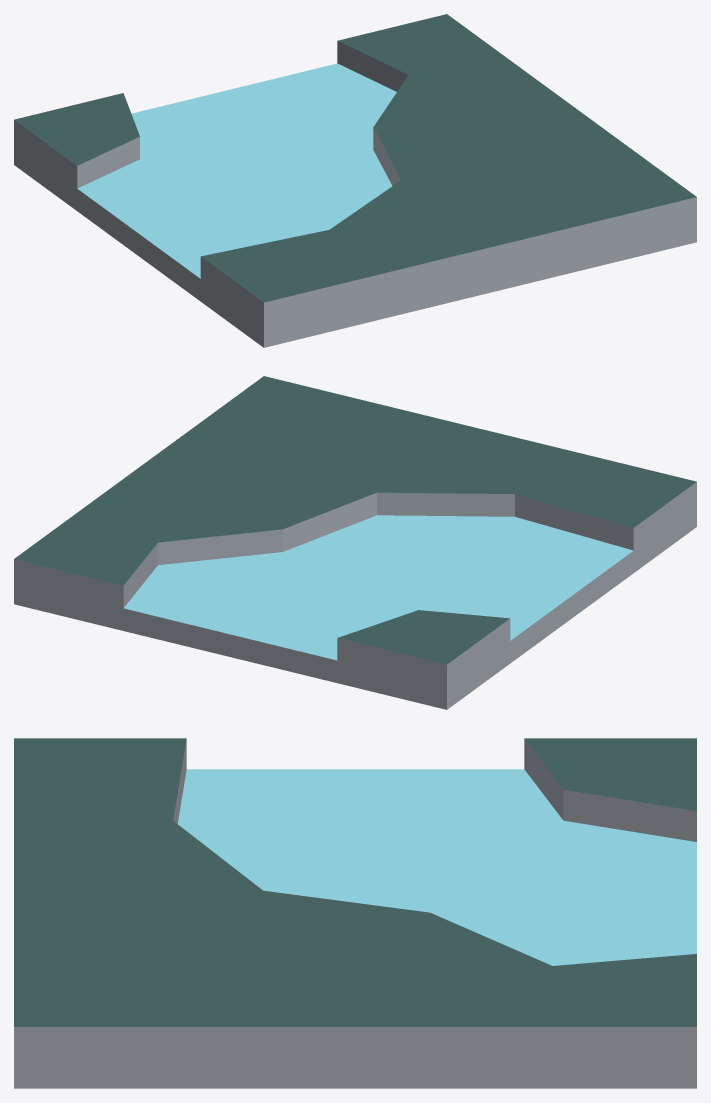
File: Plate_River_Corner_01.fbx
3 renders of one model, top to bottom at view 1: azimuth 30°, elevation 25°; view 2: azimuth 150°, elevation 25°; view 3: azimuth 270°, elevation 25°, orthographic. The views are drawn at different scales.
Parts seen in each view (by area): view 1: Mesh1_Plate_River_Corner Model; view 2: Mesh1_Plate_River_Corner Model; view 3: Mesh1_Plate_River_Corner Model.
Part boxes in pixels (x1,y1,x2,y2): Mesh1_Plate_River_Corner Model: (14,14,696,347); Mesh1_Plate_River_Corner Model: (14,376,696,709); Mesh1_Plate_River_Corner Model: (14,738,696,1088).
Size of the model in its own units: 3 by 0.3 by 3.
